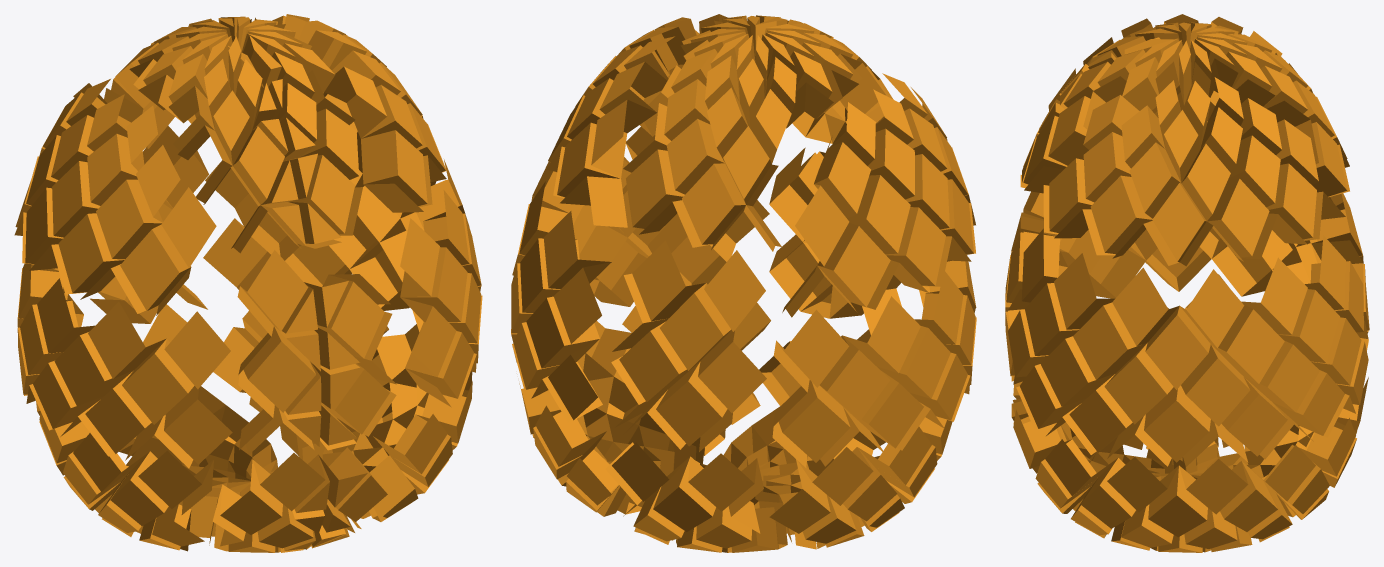
File: PineappleParticles.fbx
3 views of the same model, side by side, from view 1: azimuth 30°, elevation 25°; view 2: azimuth 150°, elevation 25°; view 3: azimuth 270°, elevation 25° (orthographic). The views are drawn at different scales.
Visible parts, largest first — view 1: Сфера.004, Сфера.001, Сфера.006, Сфера.002, Сфера.007, Сфера.008, Сфера, Сфера.005, Сфера.003; view 2: Сфера.004, Сфера.001, Сфера.006, Сфера.002, Сфера.007, Сфера.008, Сфера, Сфера.005, Сфера.003; view 3: Сфера.007, Сфера.005, Сфера, Сфера.004, Сфера.002, Сфера.006, Сфера.008, Сфера.001.
Boxes of the visible parts, box(x1,y1,x2,y2) form: Сфера.004: box(104, 16, 362, 253); Сфера.001: box(14, 79, 216, 315); Сфера.006: box(90, 125, 396, 454); Сфера.002: box(17, 263, 232, 468); Сфера.007: box(203, 136, 482, 407); Сфера.008: box(119, 304, 387, 552); Сфера: box(213, 311, 472, 521); Сфера.005: box(272, 14, 446, 212); Сфера.003: box(36, 401, 213, 551); Сфера.004: box(623, 15, 893, 251); Сфера.001: box(782, 73, 975, 317); Сфера.006: box(611, 147, 901, 451); Сфера.002: box(772, 255, 976, 467); Сфера.007: box(511, 126, 769, 422); Сфера.008: box(605, 329, 885, 552); Сфера: box(519, 303, 770, 516); Сфера.005: box(546, 14, 728, 227); Сфера.003: box(769, 416, 952, 549); Сфера.007: box(1008, 228, 1368, 466); Сфера.005: box(1043, 77, 1345, 266); Сфера: box(1013, 409, 1356, 552); Сфера.004: box(1020, 22, 1349, 197); Сфера.002: box(1059, 197, 1333, 298); Сфера.006: box(1005, 191, 1369, 384); Сфера.008: box(1011, 377, 1368, 517); Сфера.001: box(1048, 14, 1297, 121).
Size of the model in its own units: 319 by 362 by 255.
